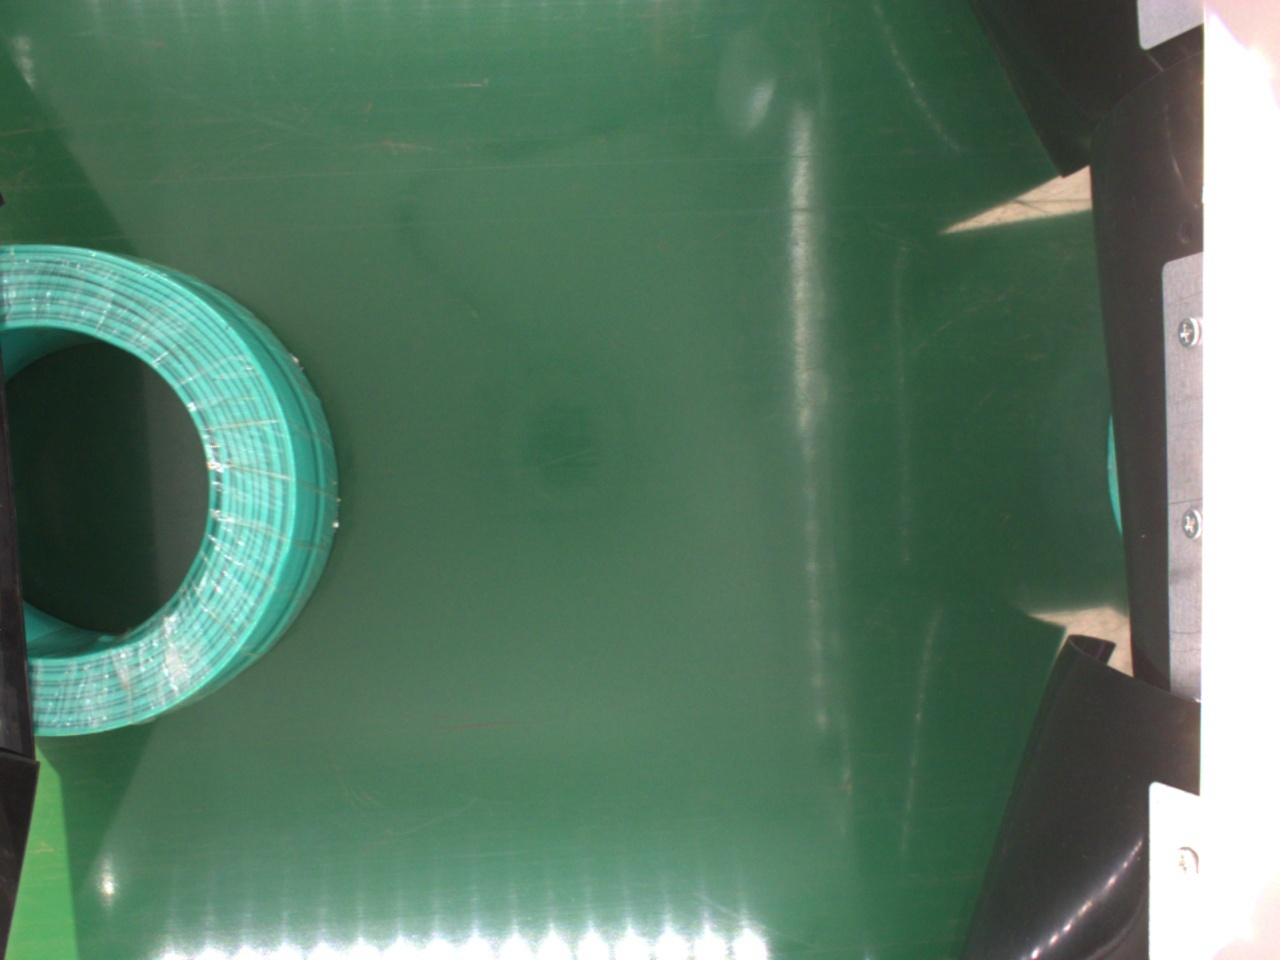green: (8, 240, 339, 743)
